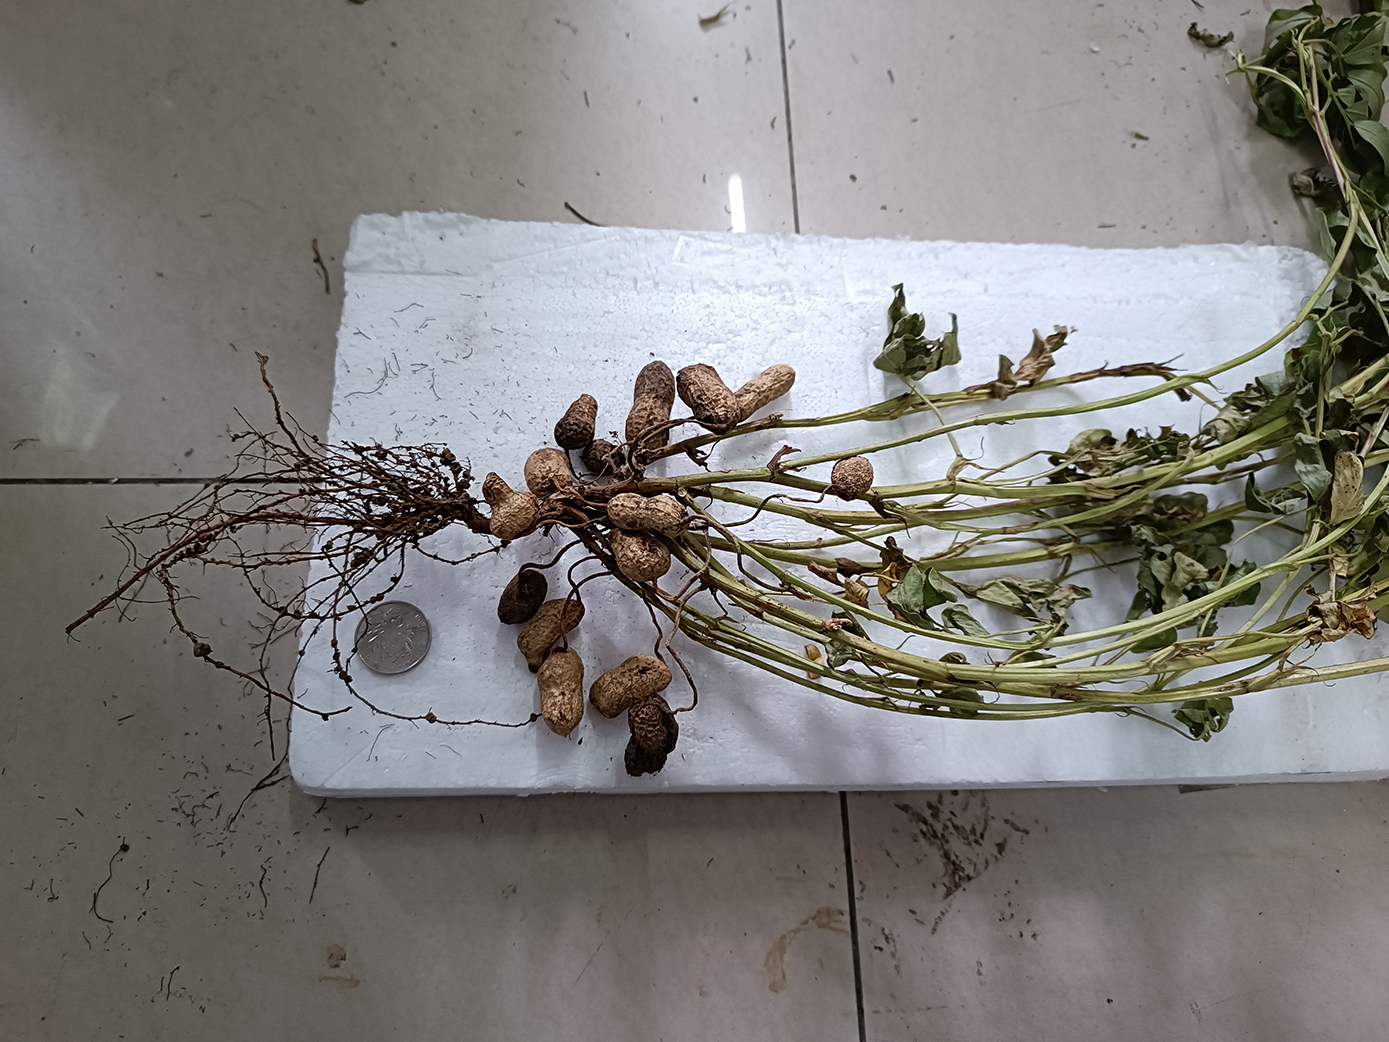h: (592, 655, 675, 719), (517, 599, 583, 672), (535, 648, 584, 737), (482, 471, 541, 544), (603, 491, 688, 539), (603, 526, 668, 584), (736, 363, 792, 413), (523, 444, 569, 497), (831, 456, 873, 502)
l: (625, 360, 675, 456), (625, 696, 678, 780), (679, 362, 739, 430), (500, 571, 545, 624), (556, 395, 595, 450), (583, 438, 617, 466)
